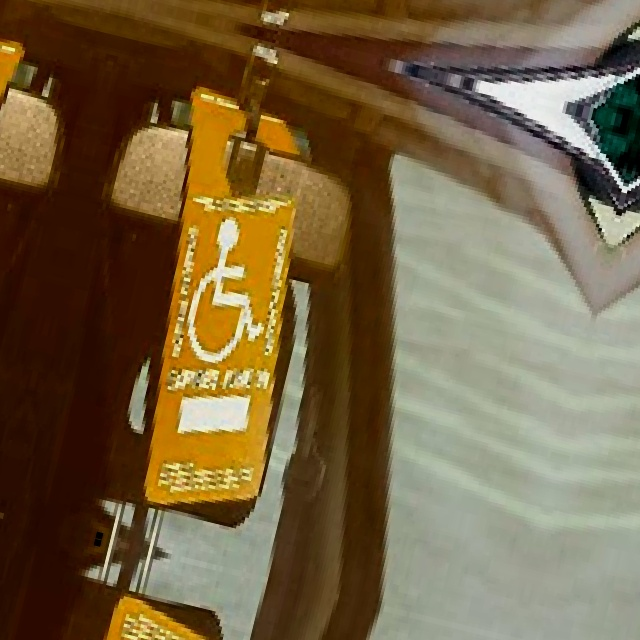ISA: (172, 211, 287, 374)
